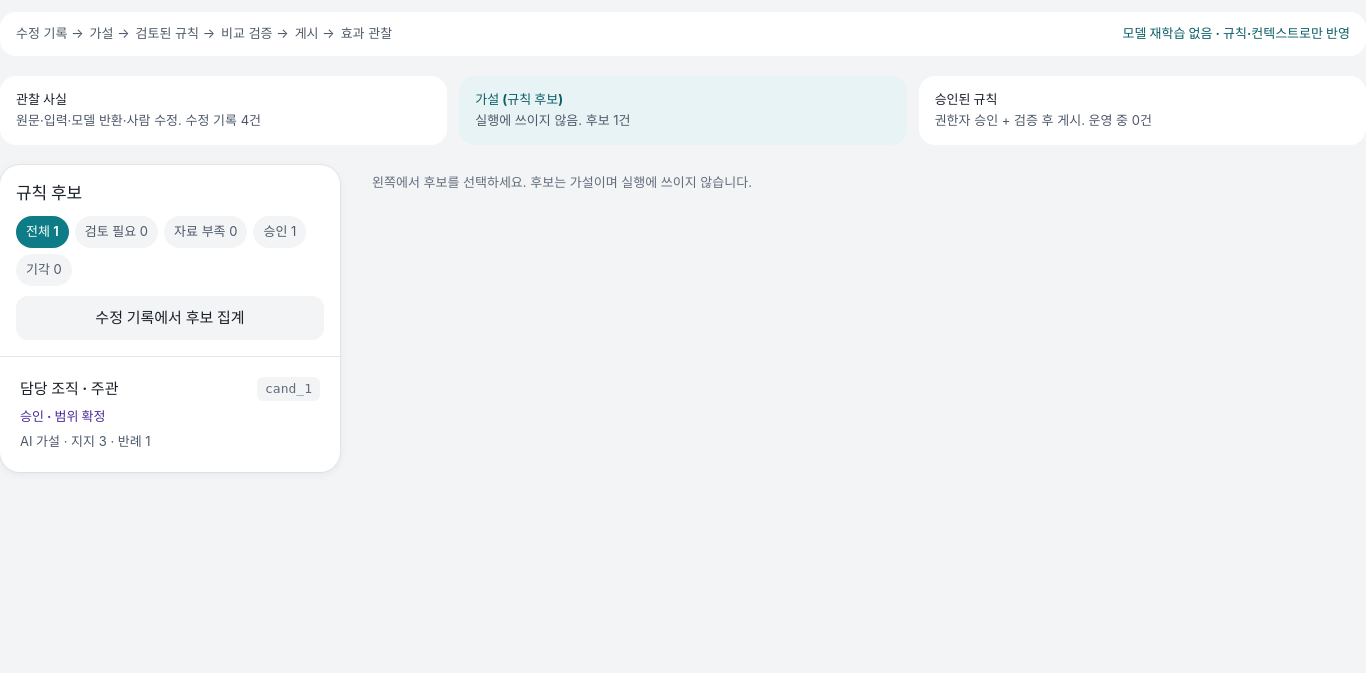
Test: Learning page › loads the latest validation from the API after selecting a rule version
What coordinates should you click on to do the following:
click the button "담당 조직 · 주관 cand_1 승인 · 범위 확정 AI 가설 · 지지 3 · 반례 1"
I would click on:
 (69, 388)
Its box is [8, 365, 332, 464].
(page scrolled)
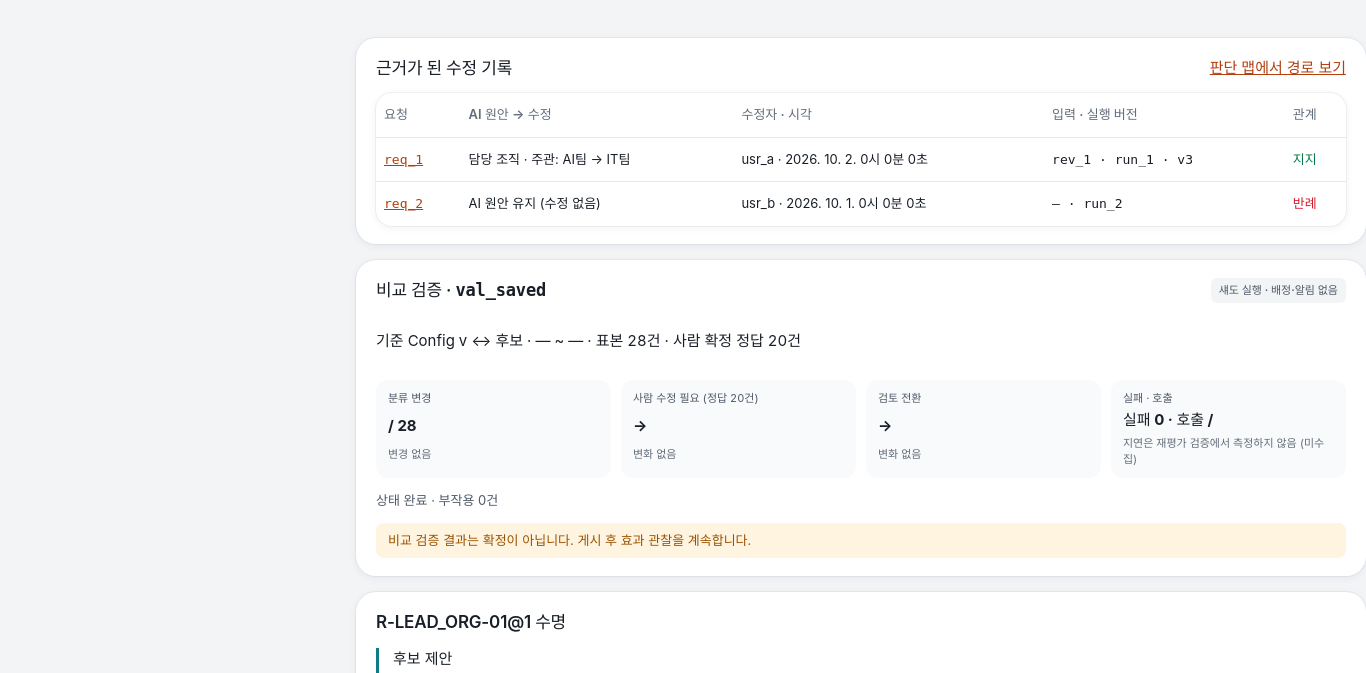
expect the text "val_saved" is shown: met, box [456, 280, 546, 300]
